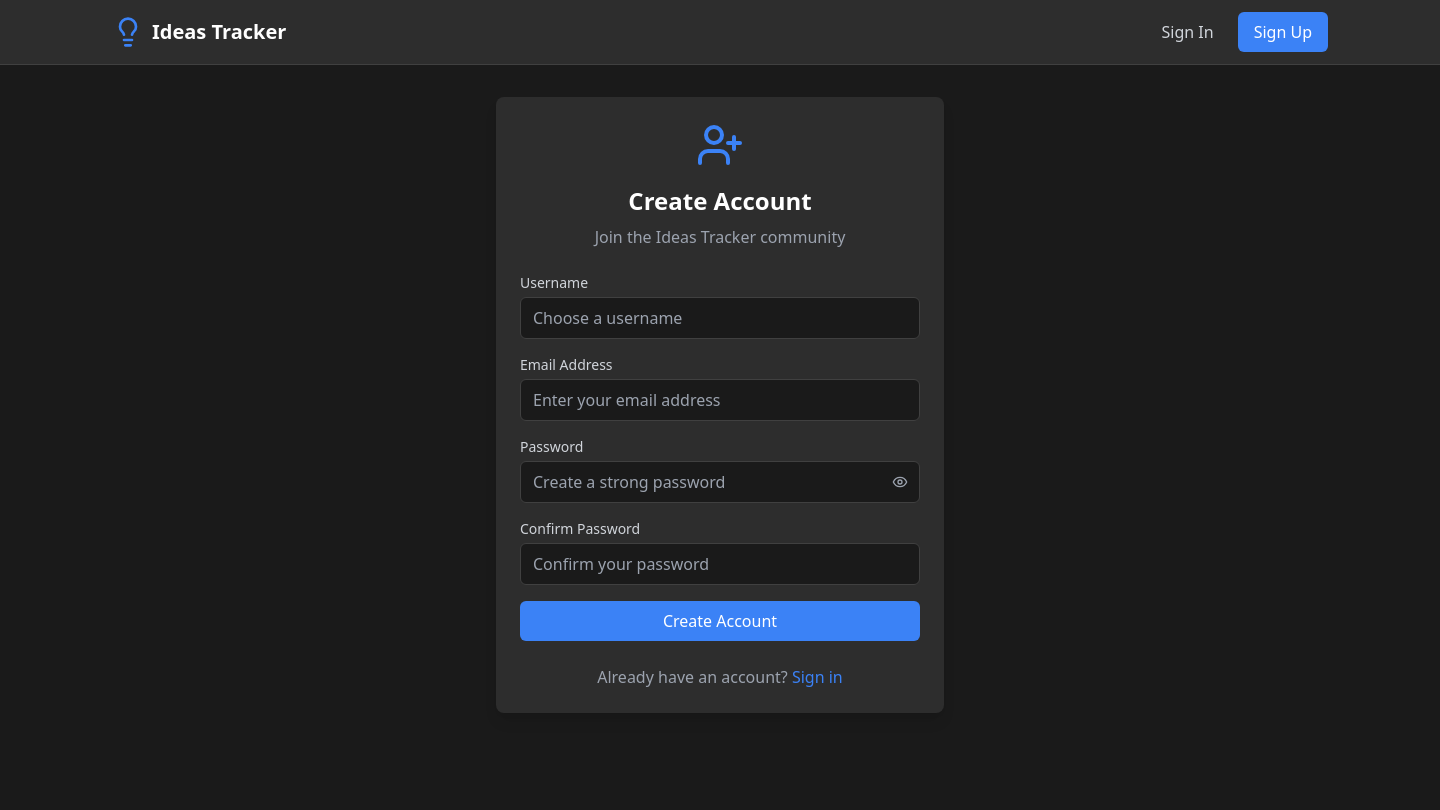
Authentication Integration Tests › Registration Flow › should show validation errors for invalid input
Try to submit form with empty fields
Click the button "Create Account": (720, 621) top-left (520, 601), bottom-right (920, 641)
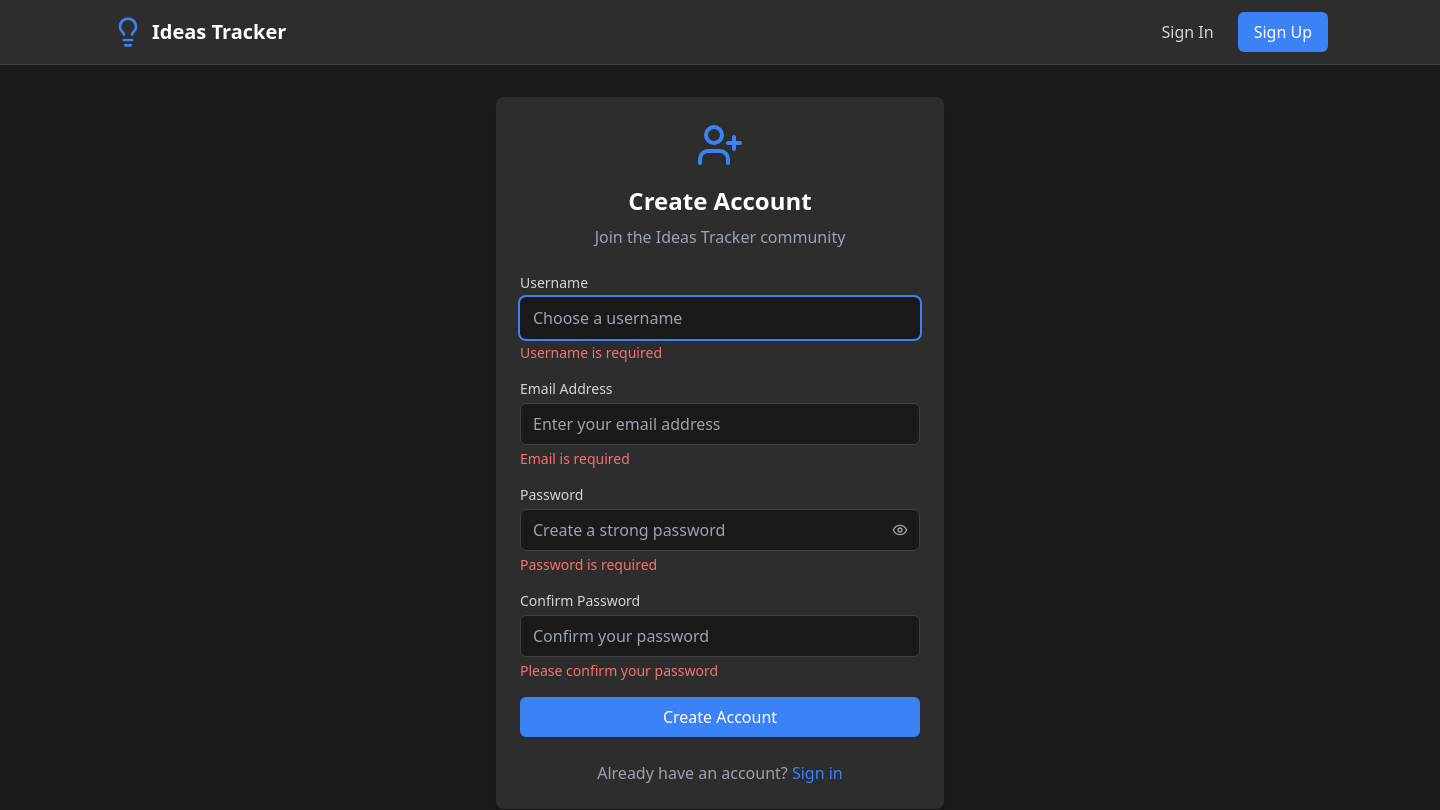
Now the text "Username is required" is shown, box top-left (520, 343), bottom-right (662, 362)
Now the text "Email is required" is shown, box top-left (520, 449), bottom-right (630, 468)
Now the text "Password is required" is shown, box top-left (520, 555), bottom-right (657, 574)
